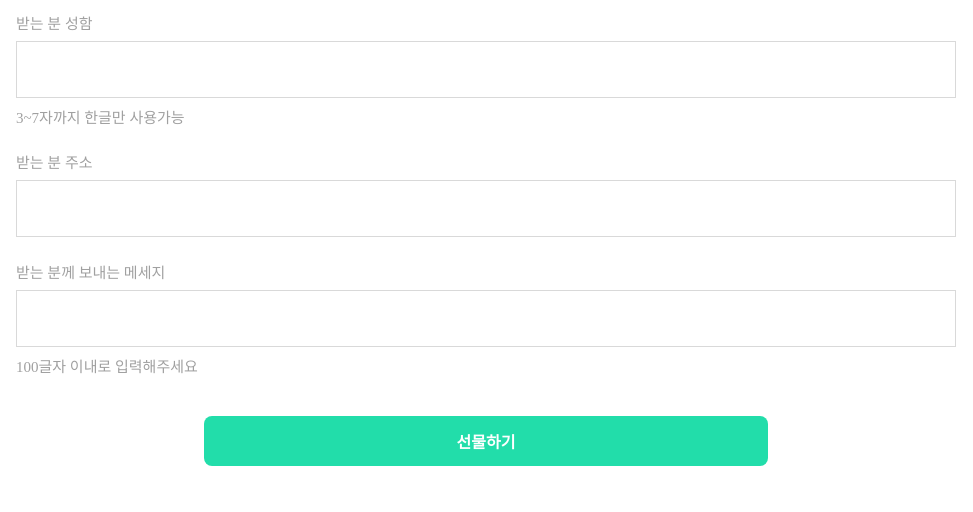
Test case: OrderForm › recipient address field › when did not filled recipient address field › render order failed message
Type "김아샬" into the field labelled "받는 분 성함" at [486, 70], box [16,41,956,98]
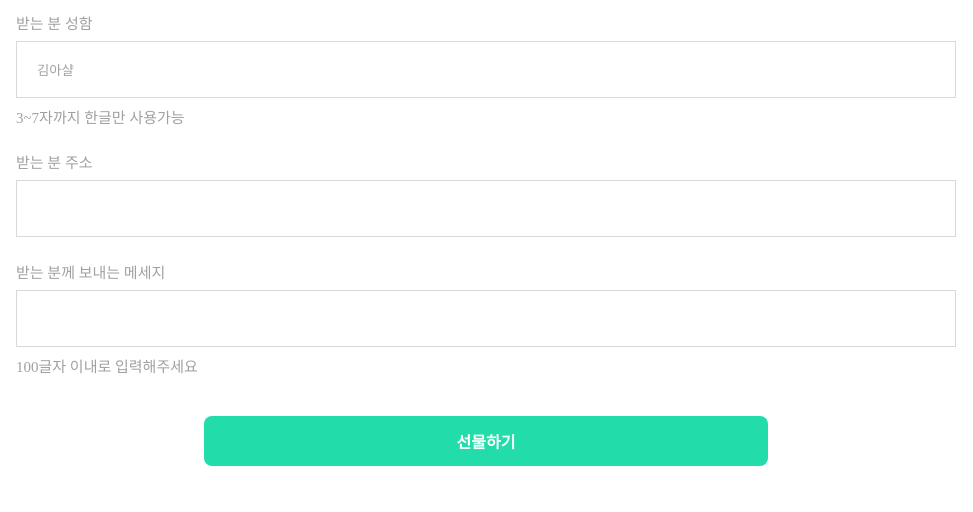
Click the button at [486, 441], box [204,416,768,466]
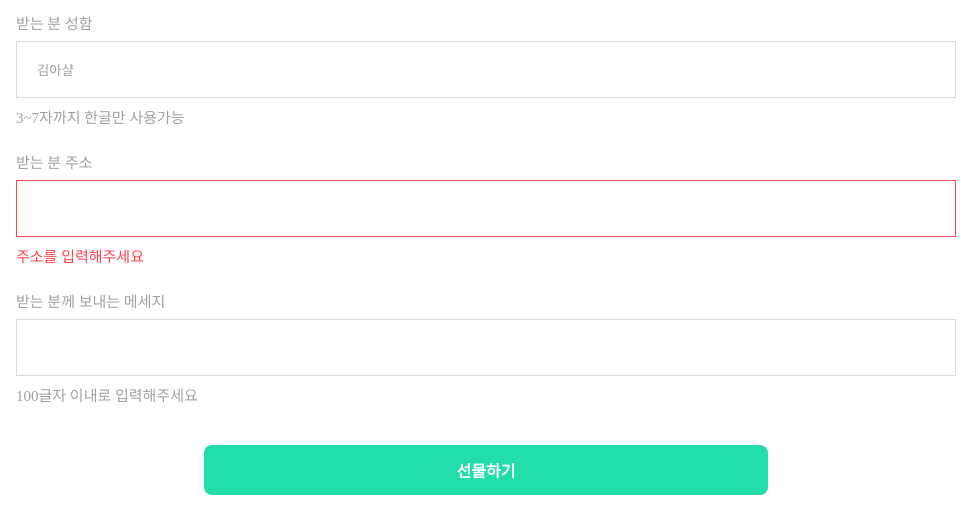
Check: the text "주소를 입력해주세요" is shown, box [16,249,144,265]
